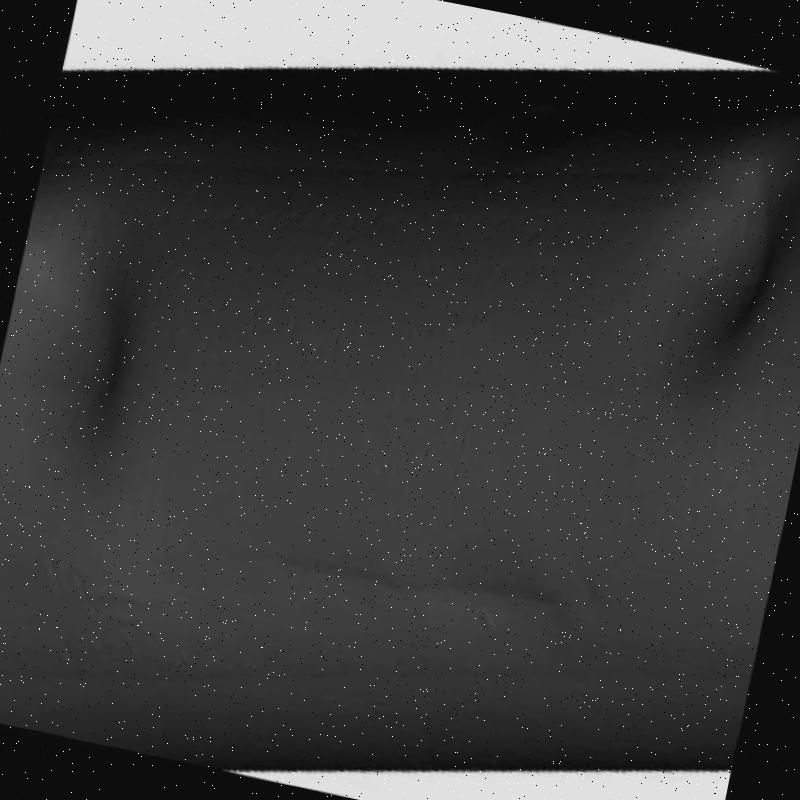Dent: (0, 184, 205, 533), (595, 145, 800, 432)
